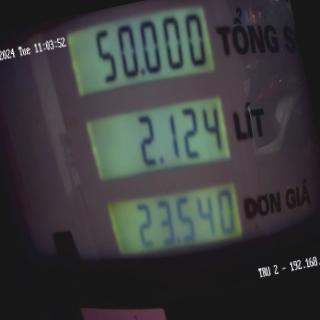screen: (51, 0, 263, 281)
